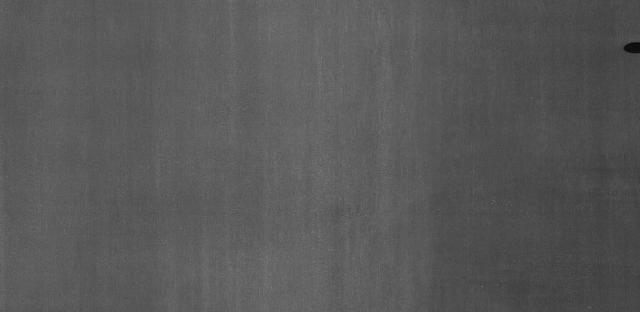punching_hole: (622, 39, 640, 55)
